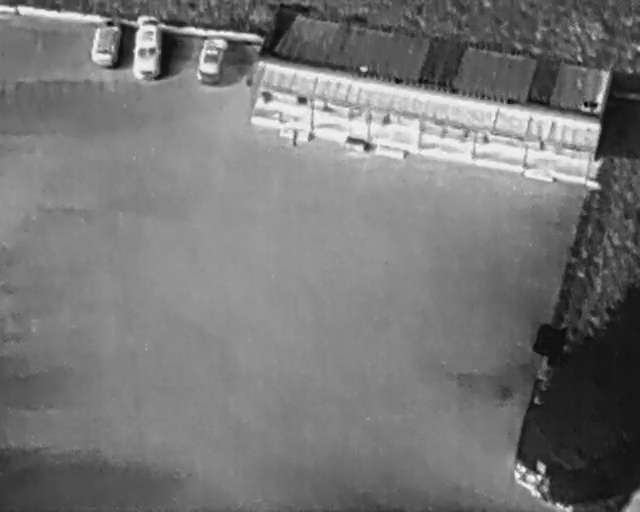Car: (130, 17, 166, 81), (195, 33, 231, 86), (90, 16, 124, 69)
